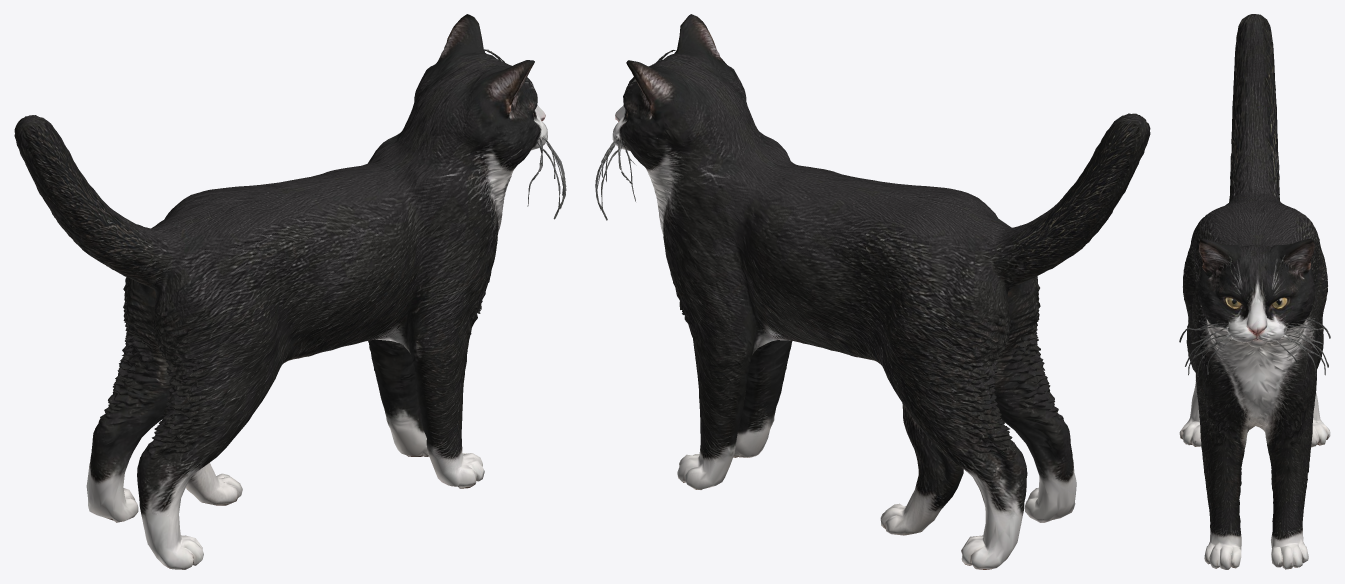
Rendered from PROFMEOW.glb.
3 renders of one model, left to right at view 1: azimuth 30°, elevation 25°; view 2: azimuth 150°, elevation 25°; view 3: azimuth 270°, elevation 25°, orthographic. The views are drawn at different scales.
Visible parts, largest first — view 1: tripo_node_3f8ab2e7-9dab-4a76-a386-d2e692494375; view 2: tripo_node_3f8ab2e7-9dab-4a76-a386-d2e692494375; view 3: tripo_node_3f8ab2e7-9dab-4a76-a386-d2e692494375.
Part boxes in pixels (box(x1,y1,x2,y2)): tripo_node_3f8ab2e7-9dab-4a76-a386-d2e692494375: box(14, 14, 566, 569); tripo_node_3f8ab2e7-9dab-4a76-a386-d2e692494375: box(595, 14, 1150, 569); tripo_node_3f8ab2e7-9dab-4a76-a386-d2e692494375: box(1179, 14, 1330, 569).
Bounding box in the file's own units: 1.22 × 0.9993 × 0.3612.
1 material, 1 textured.
